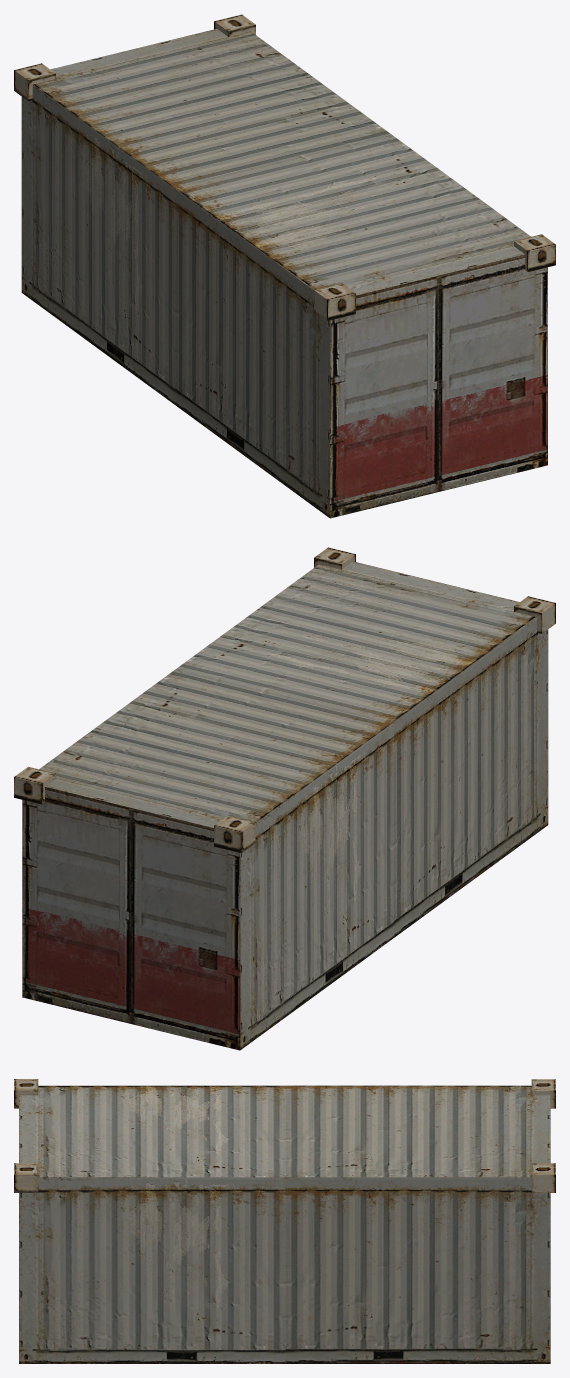
Rendered from Cover_Container02.glb.
3 renders of one model, top to bottom at view 1: azimuth 30°, elevation 25°; view 2: azimuth 150°, elevation 25°; view 3: azimuth 270°, elevation 25°, orthographic. The views are drawn at different scales.
Visible parts, largest first — view 1: xiutz_container02; view 2: xiutz_container02; view 3: xiutz_container02.
Part boxes in pixels (x1,y1,x2,y2): xiutz_container02: (14,14,555,518); xiutz_container02: (14,547,555,1050); xiutz_container02: (14,1079,555,1363).
Size of the model in its own units: 4.79 by 4.44 by 11.43.
1 material, 1 textured.
